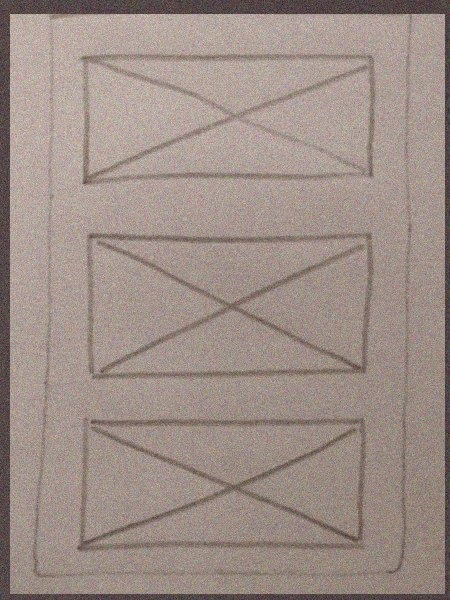image: (76, 227, 376, 384), (73, 404, 373, 561), (75, 44, 377, 192)
